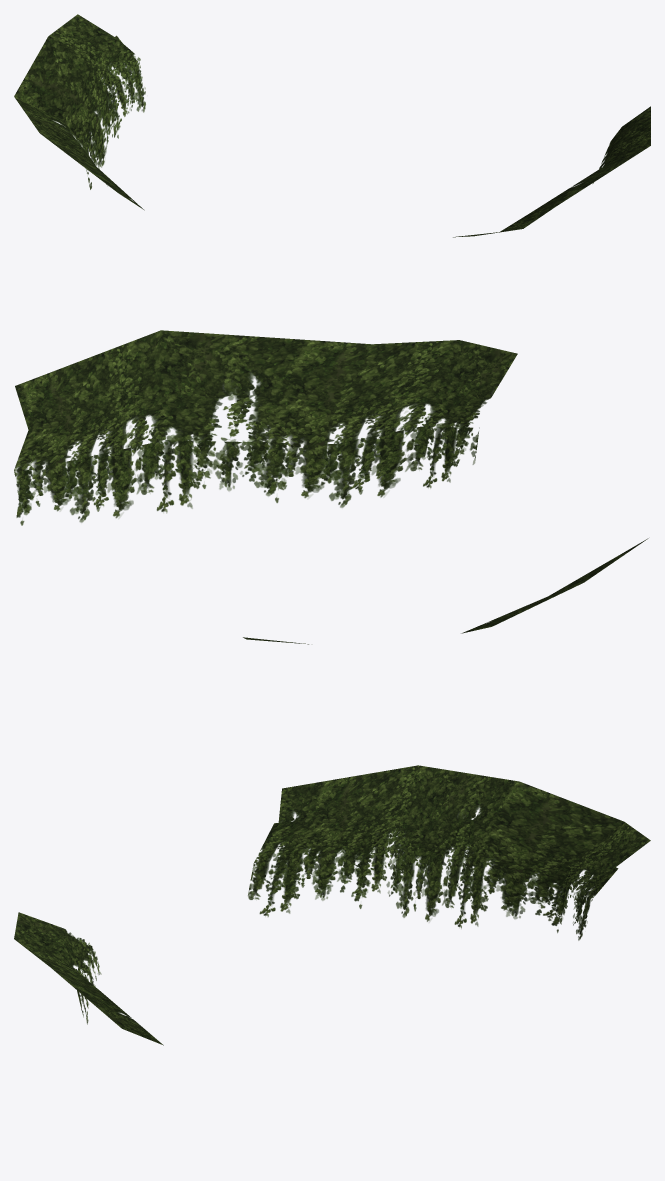
3 renders of one model, top to bottom at view 1: azimuth 30°, elevation 25°; view 2: azimuth 150°, elevation 25°; view 3: azimuth 270°, elevation 25°, orthographic. The views are drawn at different scales.
Parts seen in each view (by area): view 1: plants.png__; view 2: plants.png__; view 3: plants.png__.
Boxes of the visible parts, x1,y1,x2,y2 form: plants.png__: [14, 14, 650, 237]; plants.png__: [14, 330, 648, 644]; plants.png__: [14, 765, 650, 1045].
Size of the model in its own units: 56.61 by 14.22 by 56.86.
1 material, 1 textured.
